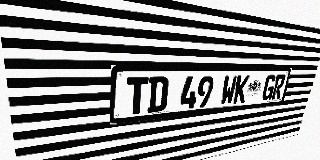4: (179, 76, 199, 109)
9: (196, 76, 215, 108)
D: (147, 76, 169, 113)
G: (261, 75, 277, 101)
K: (233, 75, 250, 104)
R: (271, 75, 286, 99)
T: (125, 77, 149, 115)
W: (220, 75, 238, 105)
